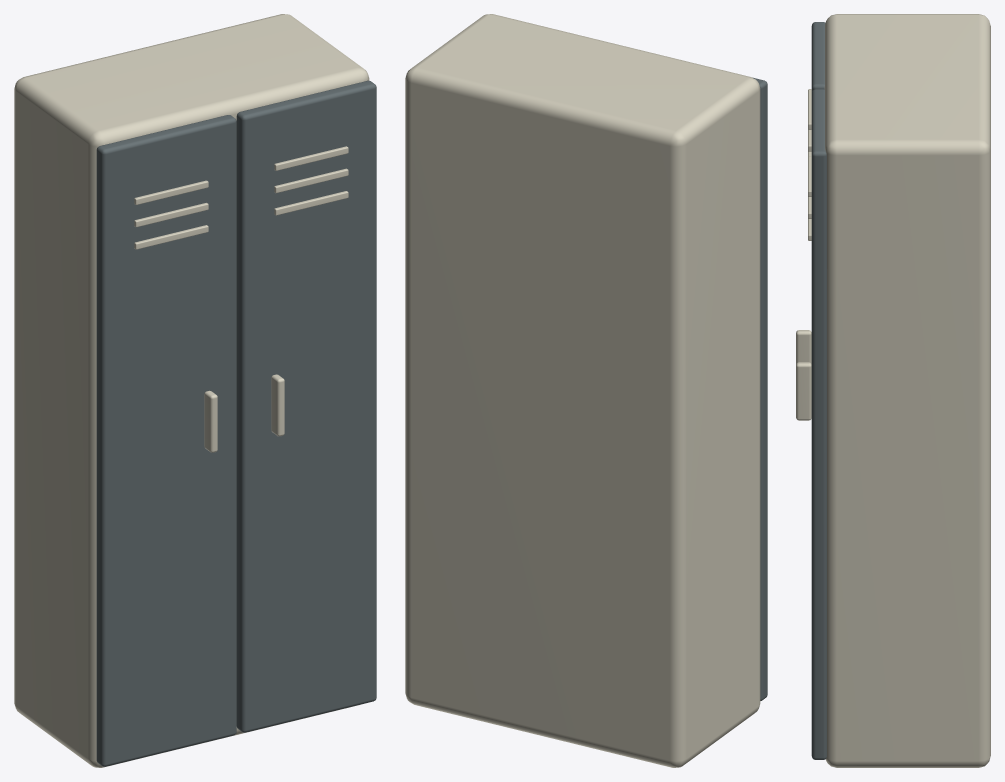
File: ArchiveCabinet.fbx
3 views of the same model, side by side, from view 1: azimuth 30°, elevation 25°; view 2: azimuth 150°, elevation 25°; view 3: azimuth 270°, elevation 25° (orthographic).
Parts seen in each view (by area): view 1: Door, Door.001, Cabinet body, Handle.001, Handle, Vent.003, Vent.004, Vent.002, Vent.001, Vent.005, Vent; view 2: Cabinet body, Door; view 3: Cabinet body, Door.001, Door, Handle.001, Handle.
Boxes of the visible parts, left/top/right/bottom form: Door: left=96, top=115, right=236, bottom=766; Door.001: left=236, top=80, right=376, bottom=732; Cabinet body: left=14, top=14, right=369, bottom=767; Handle.001: left=271, top=374, right=284, bottom=436; Handle: left=204, top=390, right=217, bottom=452; Vent.003: left=274, top=191, right=348, bottom=215; Vent.004: left=274, top=168, right=348, bottom=193; Vent.002: left=134, top=180, right=208, bottom=204; Vent.001: left=134, top=202, right=208, bottom=227; Vent.005: left=274, top=146, right=348, bottom=170; Vent: left=134, top=225, right=208, bottom=249; Cabinet body: left=405, top=14, right=760, bottom=767; Door: left=752, top=77, right=767, bottom=700; Cabinet body: left=824, top=14, right=990, bottom=767; Door.001: left=811, top=89, right=826, bottom=759; Door: left=811, top=22, right=825, bottom=92; Handle.001: left=796, top=362, right=811, bottom=420; Handle: left=796, top=330, right=811, bottom=364.
Bounding box in the file's own units: 92 × 200 × 56.25.
